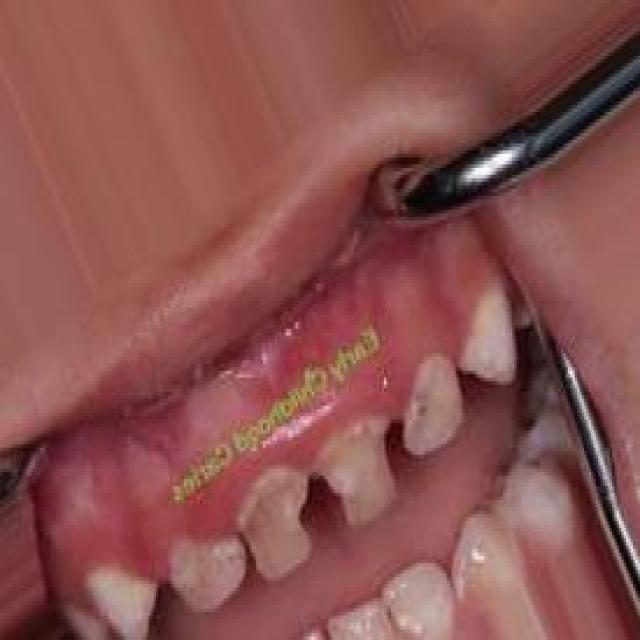caries: (316, 414, 400, 526), (240, 465, 315, 583), (173, 525, 250, 620)
